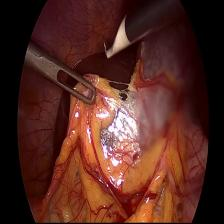Grasper: (32, 48, 98, 108)
Hook: (101, 11, 132, 63)
